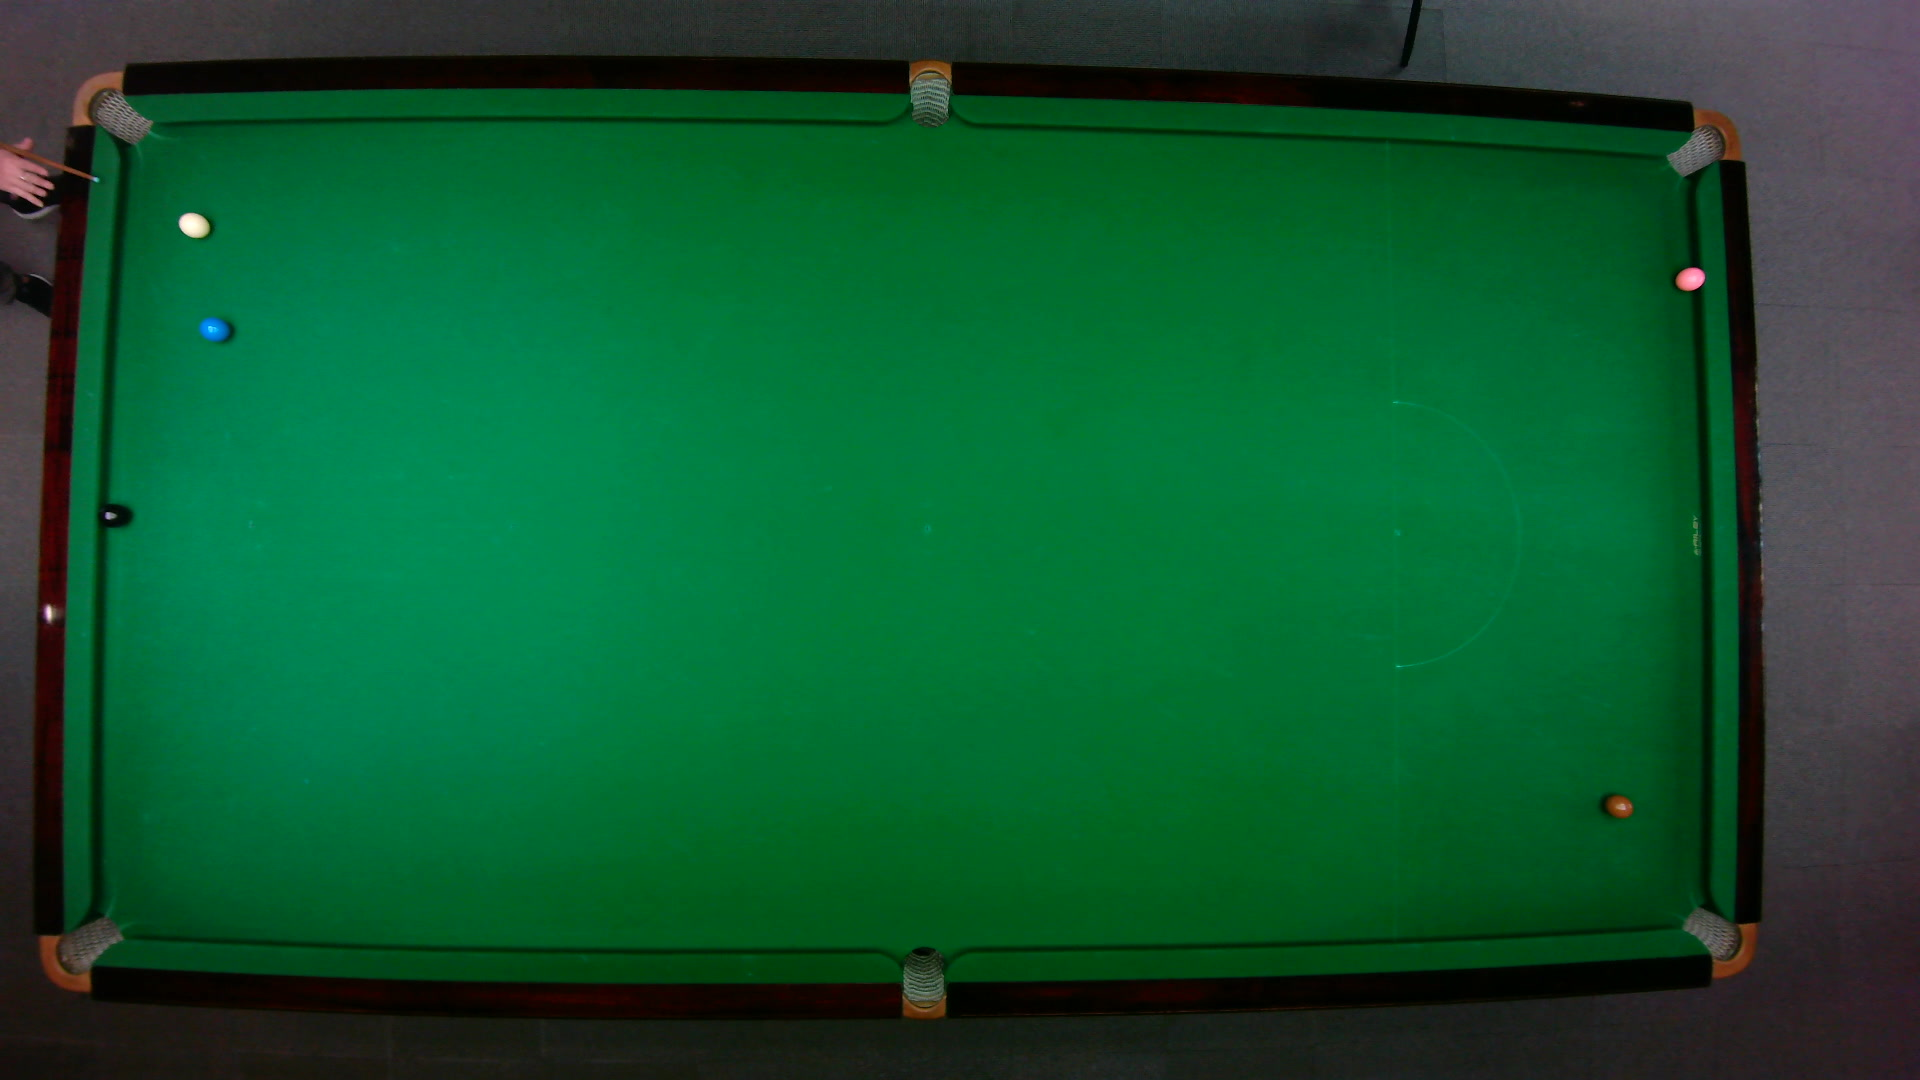bag: (37, 913, 124, 992), (70, 69, 153, 145), (1677, 905, 1756, 978), (1663, 108, 1741, 178), (901, 944, 944, 1021), (909, 57, 949, 128)
black: (98, 502, 127, 527)
blue: (196, 315, 231, 342)
brown: (1604, 793, 1634, 818)
pink: (1673, 264, 1706, 291)
white: (175, 210, 211, 237)
zone: (1390, 400, 1520, 669)
